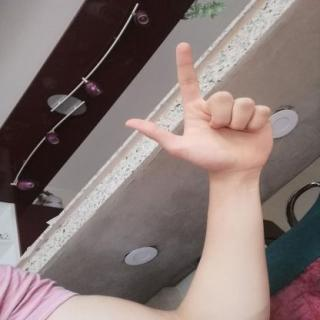LAAM: (115, 35, 283, 177)
